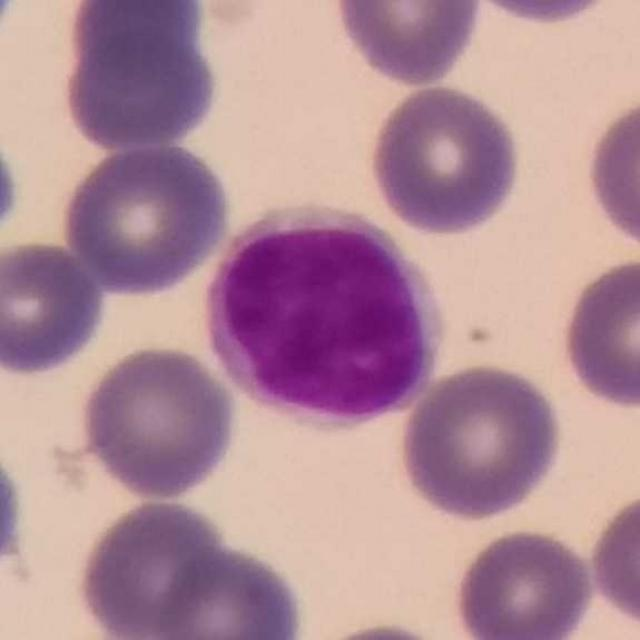Lymphocyte: (200, 204, 451, 430)
RBC: (58, 137, 233, 298), (396, 359, 567, 523), (74, 341, 240, 503), (363, 82, 526, 240), (56, 8, 224, 155), (71, 495, 233, 639), (450, 524, 598, 640), (149, 541, 310, 639), (0, 237, 110, 380), (328, 0, 486, 89), (556, 252, 640, 411), (55, 0, 210, 82), (581, 89, 640, 258), (585, 484, 640, 633), (455, 0, 627, 28), (0, 433, 30, 590), (296, 616, 462, 640), (0, 0, 21, 31)
